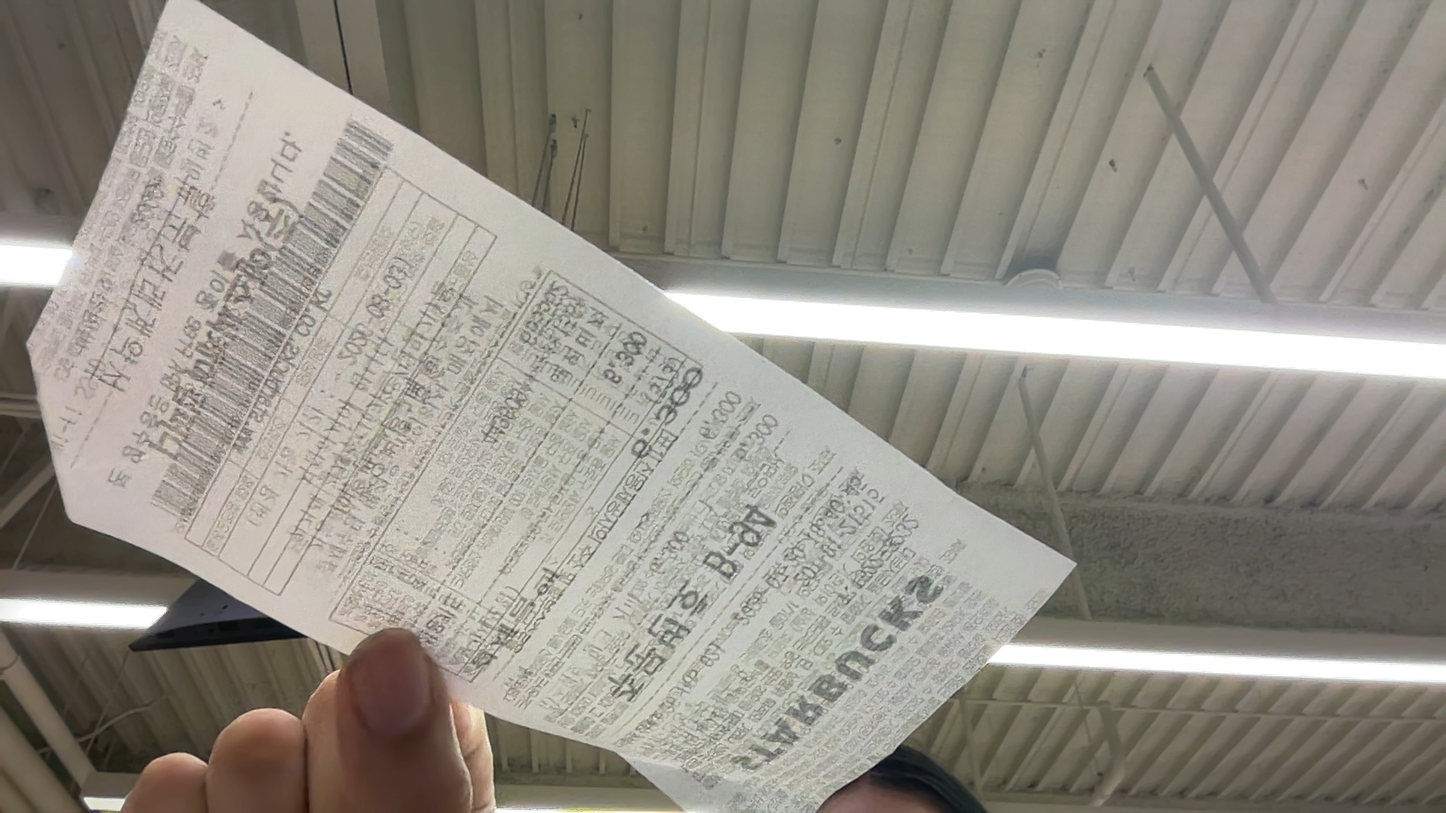Paper: (0, 235, 83, 284)
